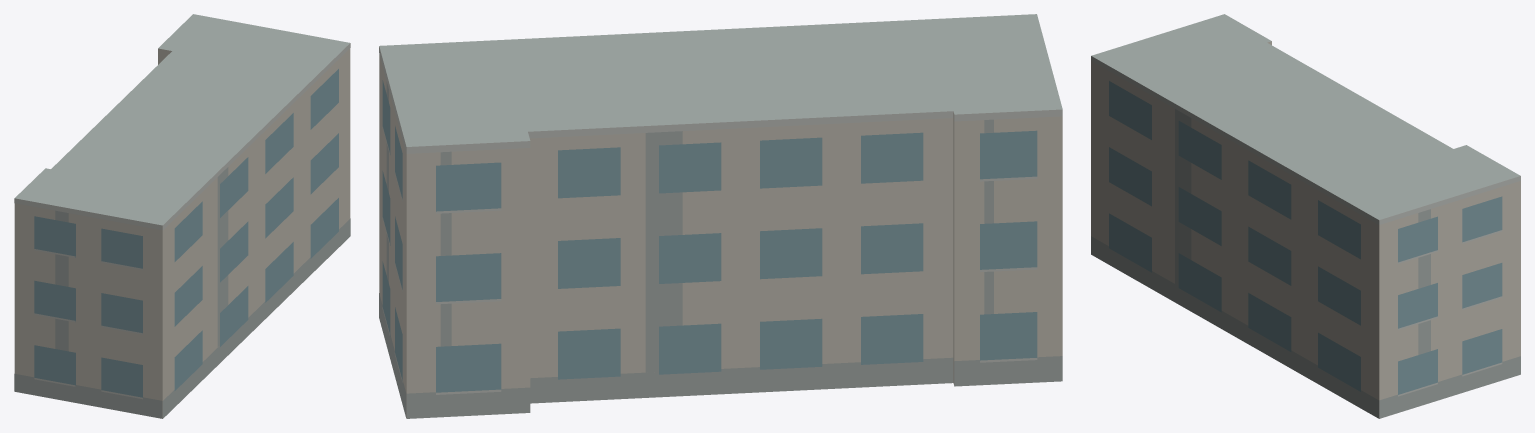
File: residential-8525f571-aafb-4fc7-9a04-762fe4fa7562.glb
3 views of the same model, side by side, from view 1: azimuth 30°, elevation 25°; view 2: azimuth 150°, elevation 25°; view 3: azimuth 270°, elevation 25° (orthographic). The views are drawn at different scales.
Visible parts, largest first — view 1: residential-8525f571-aafb-4fc7-9a04-762fe4fa7562.tmp; view 2: residential-8525f571-aafb-4fc7-9a04-762fe4fa7562.tmp; view 3: residential-8525f571-aafb-4fc7-9a04-762fe4fa7562.tmp.
Boxes of the visible parts, x1,y1,x2,y2 form: residential-8525f571-aafb-4fc7-9a04-762fe4fa7562.tmp: [14, 14, 350, 418]; residential-8525f571-aafb-4fc7-9a04-762fe4fa7562.tmp: [379, 14, 1062, 418]; residential-8525f571-aafb-4fc7-9a04-762fe4fa7562.tmp: [1091, 14, 1520, 418].
Size of the model in its own units: 21.48 by 9.65 by 18.92.
